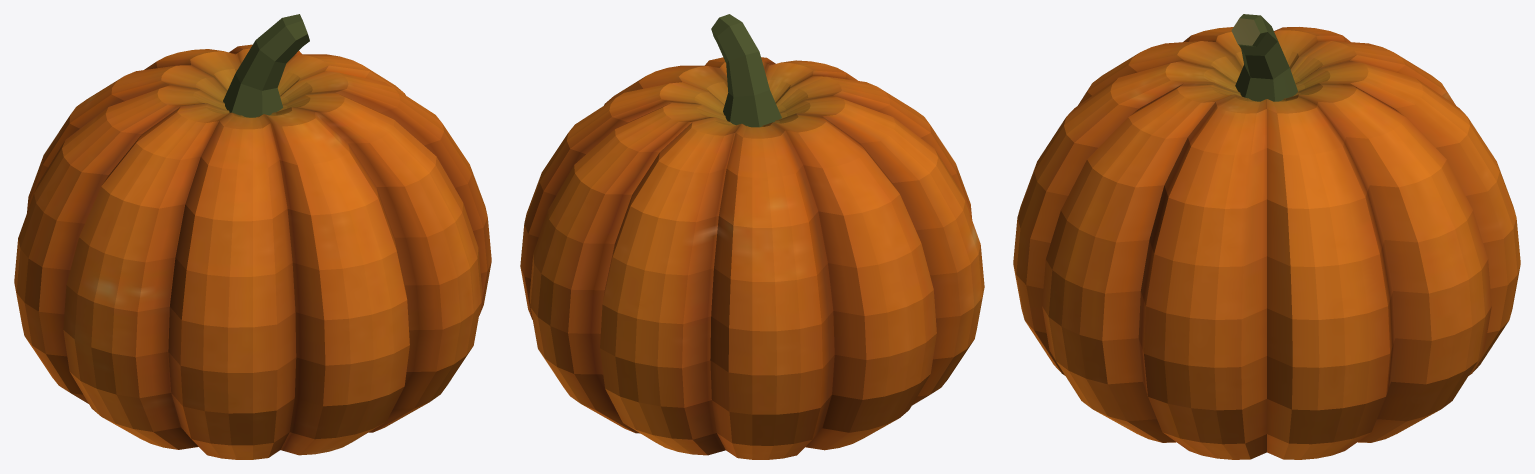
The model's file is pr_pumpkin.glb.
3 views of the same model, side by side, from view 1: azimuth 30°, elevation 25°; view 2: azimuth 150°, elevation 25°; view 3: azimuth 270°, elevation 25° (orthographic). The views are drawn at different scales.
Visible parts, largest first — view 1: pr_pumpkin; view 2: pr_pumpkin; view 3: pr_pumpkin.
Part boxes in pixels (box(x1,y1,x2,y2)): pr_pumpkin: box(14, 14, 491, 459); pr_pumpkin: box(520, 14, 984, 459); pr_pumpkin: box(1013, 14, 1520, 459).
Size of the model in its own units: 0.5829 by 0.5551 by 0.6.
Materials: 1 (1 with a texture image).
